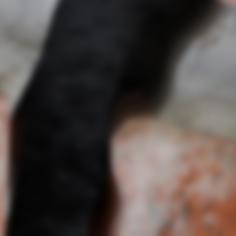broken_brick: (115, 120, 235, 235), (0, 93, 8, 186), (0, 209, 1, 232)
crack: (0, 0, 234, 235)
